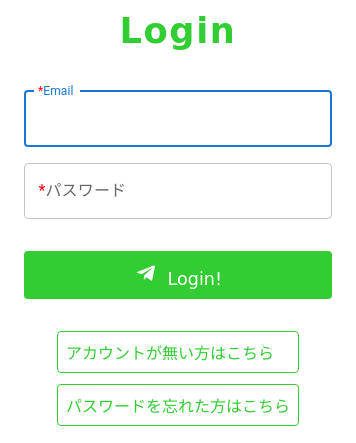
Test: Loginコンポーネント › Form欄 › 送信ボタン › 送信結果に応じてボタンの要素が変化 Status200
Expected: the button with test id "formSubmit" reads "Login!", [24,251,332,299]
// 各項目に有効な値を入力
Type "test@example.com" into the field with test id "emailArea" at (178, 119), box [24,91,332,147]
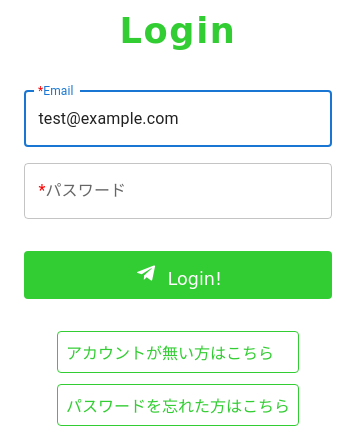
Type "testPassword" into the password field with test id "passwordArea" at (178, 191), box [24,163,332,219]
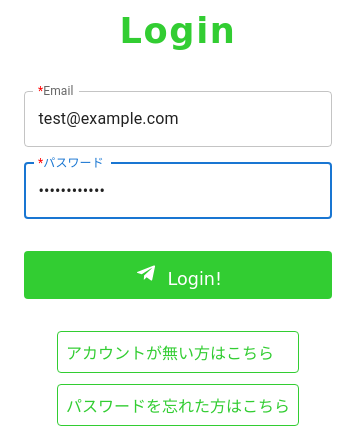
// ユーザが送信ボタンをクリック
Click the button with test id "formSubmit" at (178, 275), box [24,251,332,299]
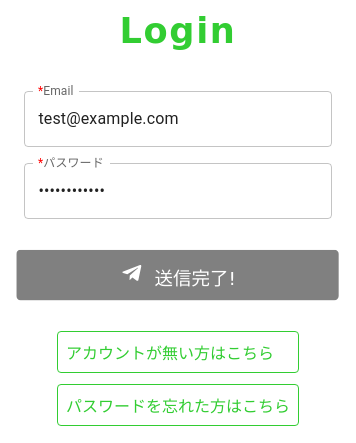
Expected: the button with test id "formSubmit" reads "送信完了!", [17,250,339,300]
